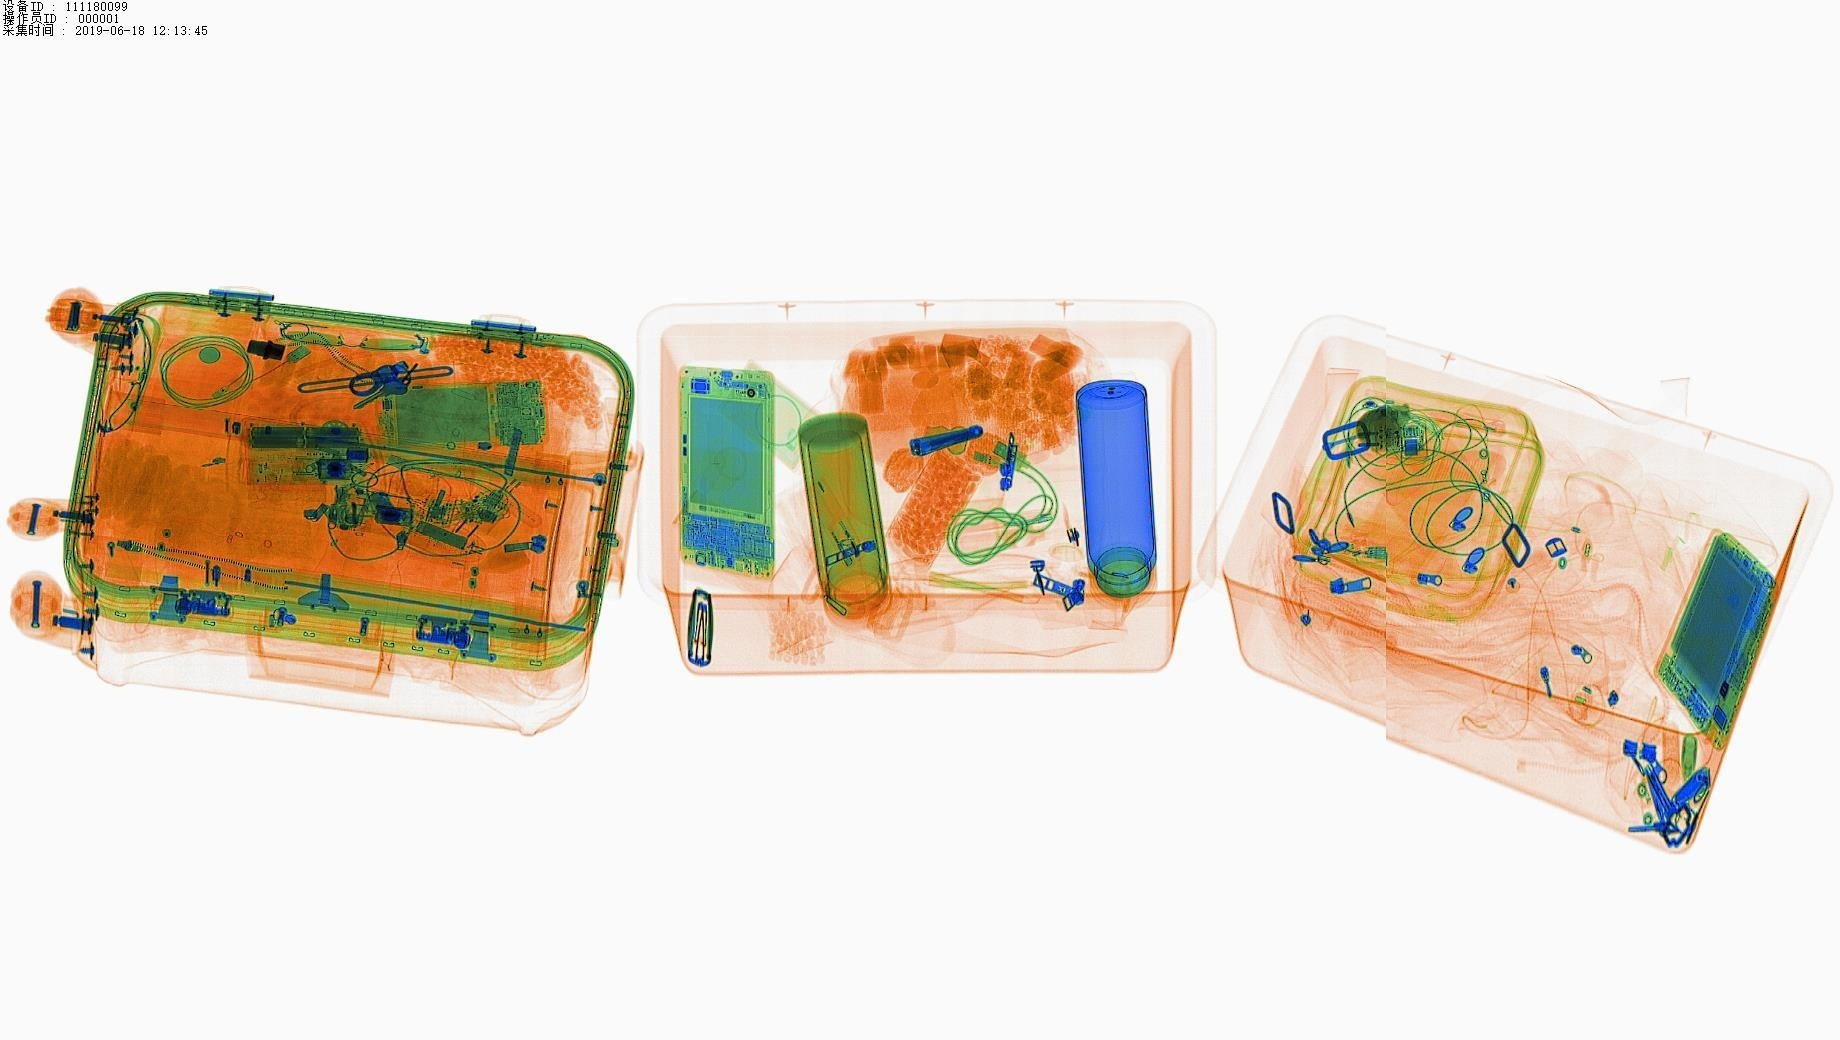NonmetallicFire: (802, 476, 869, 580)
